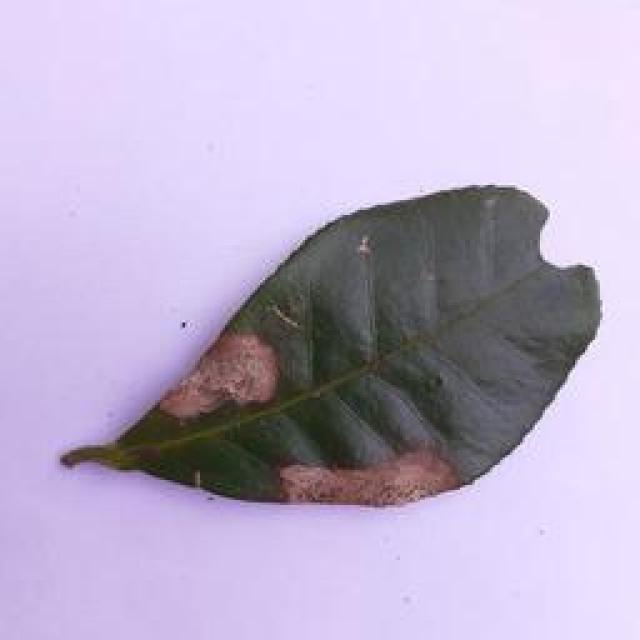Gray Blight: (56, 180, 604, 508)
